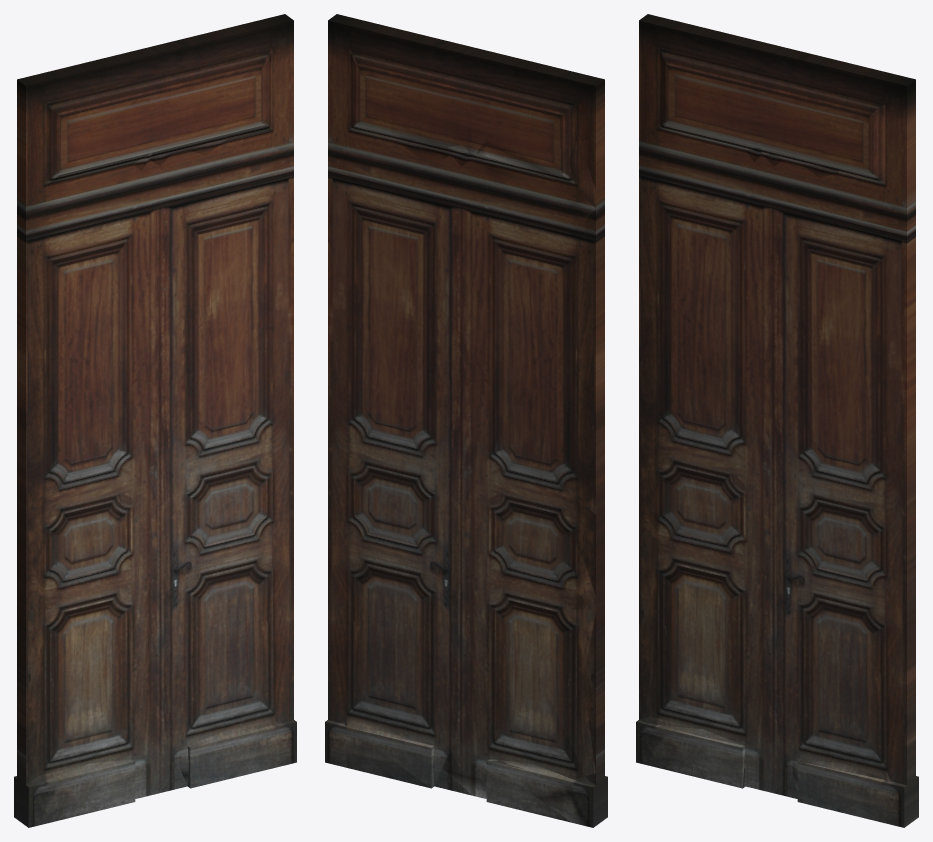
Rendered from side_door.fbx.
3 renders of one model, left to right at view 1: azimuth 30°, elevation 25°; view 2: azimuth 150°, elevation 25°; view 3: azimuth 330°, elevation 25°, orthographic.
Parts seen in each view (by area): view 1: unbroken_door, broken_door; view 2: broken_door, unbroken_door, broken_door_piece_20, broken_door_piece_23, broken_door_piece_22, broken_door_piece_30, broken_door_piece_10, broken_door_piece_12, broken_door_piece_19, broken_door_piece_18, broken_door_piece_07, broken_door_piece_29 (+21 smaller); view 3: unbroken_door, broken_door.
Boxes of the visible parts, x1,y1,x2,y2 form: unbroken_door: (14, 21, 296, 827); broken_door: (18, 14, 296, 762); broken_door: (325, 14, 603, 766); unbroken_door: (340, 79, 607, 827); broken_door_piece_20: (360, 194, 440, 456); broken_door_piece_23: (434, 214, 531, 477); broken_door_piece_22: (505, 249, 595, 492); broken_door_piece_30: (482, 236, 574, 397); broken_door_piece_10: (434, 577, 531, 750); broken_door_piece_12: (356, 555, 440, 732); broken_door_piece_19: (450, 348, 531, 588); broken_door_piece_18: (531, 398, 595, 590); broken_door_piece_07: (472, 659, 584, 779); broken_door_piece_29: (481, 164, 595, 256); unbroken_door: (636, 14, 906, 827); broken_door: (640, 14, 918, 827).
Bounding box in the file's own units: 11.11 × 29.28 × 1.05.
